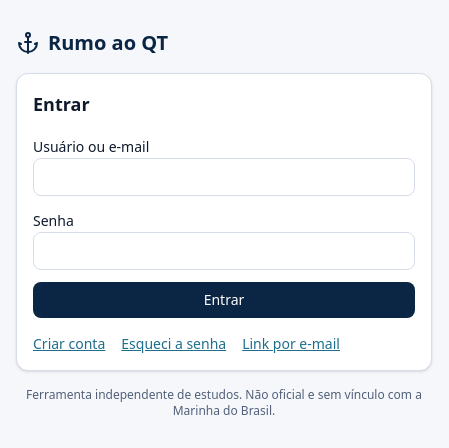
it: Auth › credencial inválida mostra erro útil
Type "a@b.com" into the field labelled "Usuário ou e-mail" at [224, 177], box [33,158,415,196]
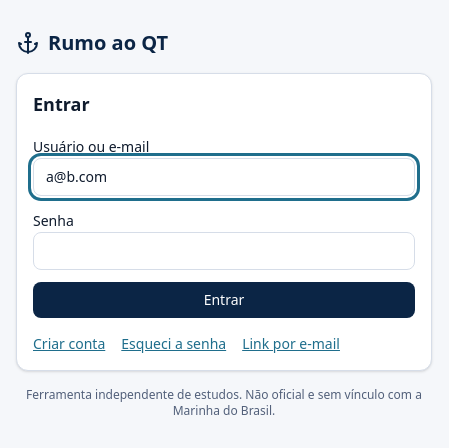
Type "senha-errada-1" into the password field labelled "Senha" at [224, 251], box [33,232,415,270]
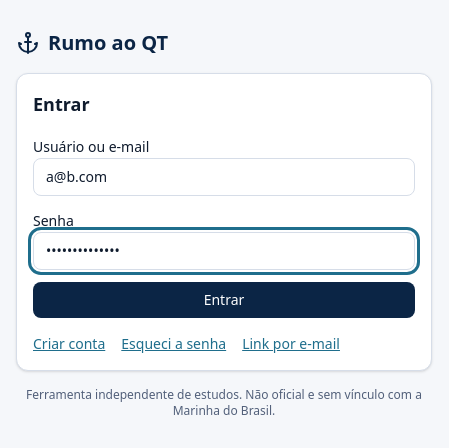
Click the button "Entrar" at [224, 300], box [33,282,415,318]
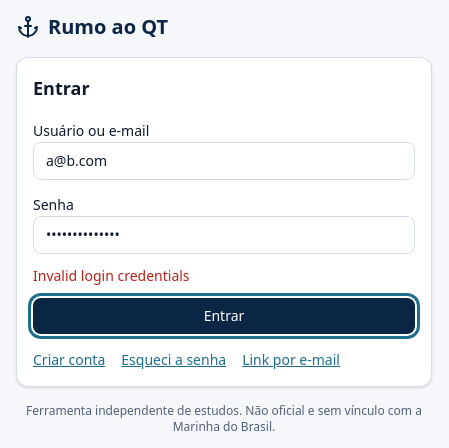
Check: the message reads "Invalid login credentials", box [33,266,190,285]
